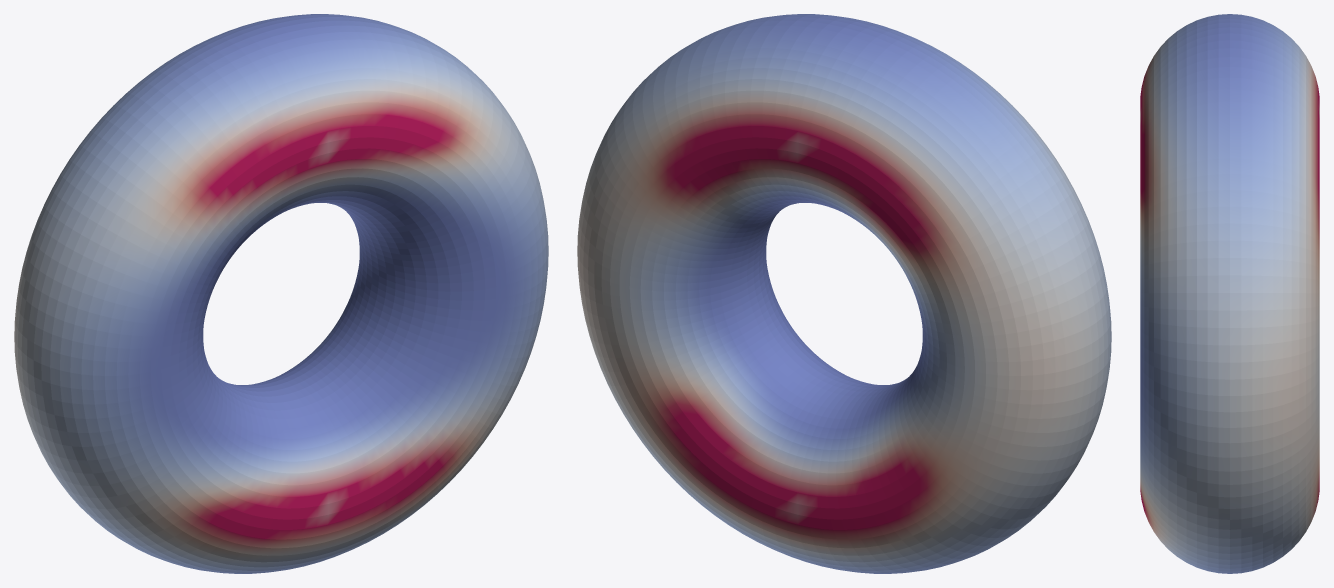
The picture shows the model from 3 angles, left to right: view 1: azimuth 30°, elevation 25°; view 2: azimuth 150°, elevation 25°; view 3: azimuth 270°, elevation 25°; orthographic projection. The views are drawn at different scales.
Parts seen in each view (by area): view 1: world; view 2: world; view 3: world.
Part boxes in pixels (left/top/right/bottom): world: left=14, top=14, right=548, bottom=573; world: left=577, top=14, right=1111, bottom=573; world: left=1140, top=14, right=1319, bottom=573.
Bounding box in the file's own units: 18.67 × 18.67 × 5.99.
